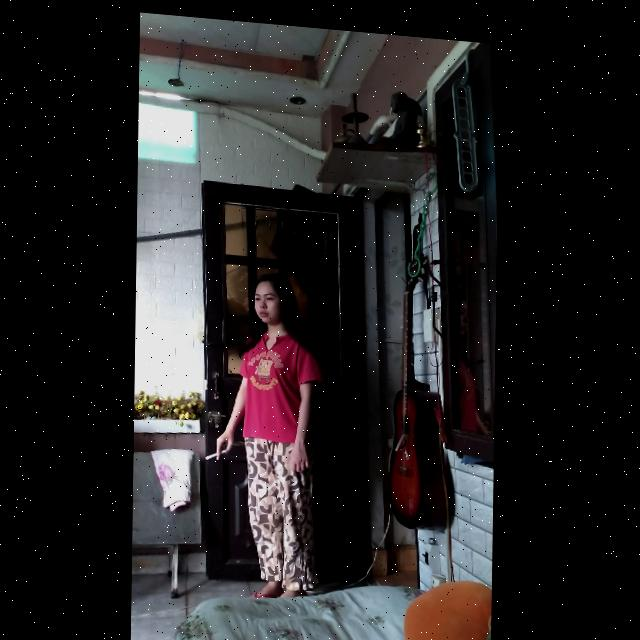cigarette: (206, 444, 228, 457)
